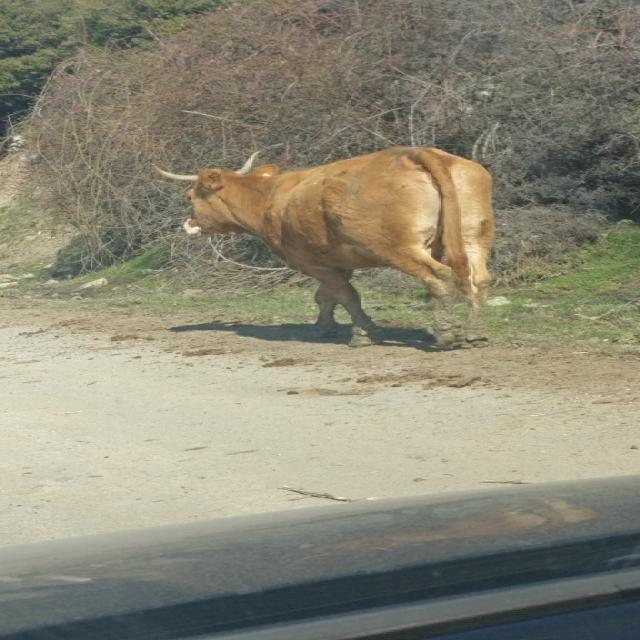cow: (159, 148, 494, 345)
